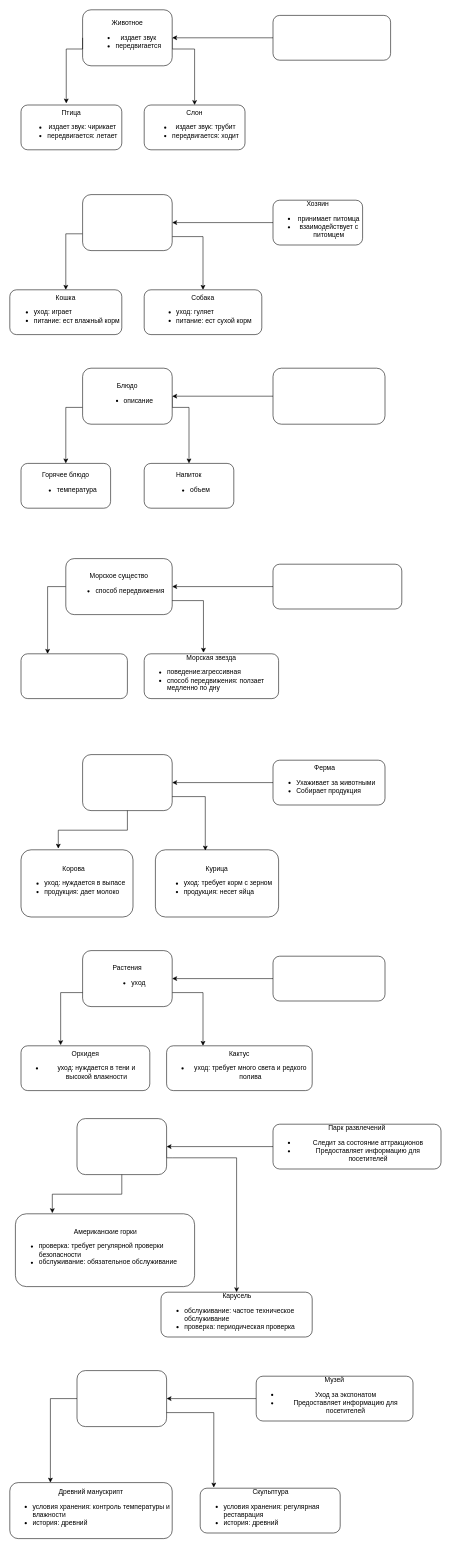
The diagram is 451 pixels wide and 1548 high, and some of its shapes have lost their labels. Here are the shapes that lost their labels. From the top down, the centre of each, then its label:
At (331,37): "Зоопарк Добавляет животное Показывает поведение животного".
At (127,222): "Питомец уход питание".
At (328,396): "Ресторан Добавляет блюдо в меню Выводит описание блюда".
At (337,586): "Аквариум Добавляет морское существо Показывает поведение морского существа".
At (73,676): "Акула способ передвижения: плавает быстро и агрессивно".
At (127,782): "Домашнее животное уход продукция".
At (328,978): "Ботанический сад Добавляет растения Обеспечивает уход".
At (121,1146): "Аттракцион обслуживание проверка".
At (121,1398): "Экспонат история условия хранения".
